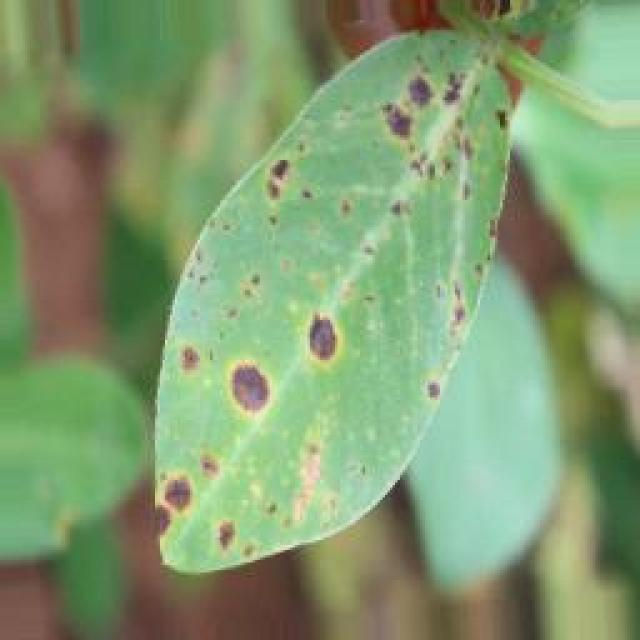Yellowish: (64, 0, 546, 581)
